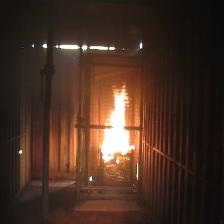fire: (99, 87, 130, 160)
